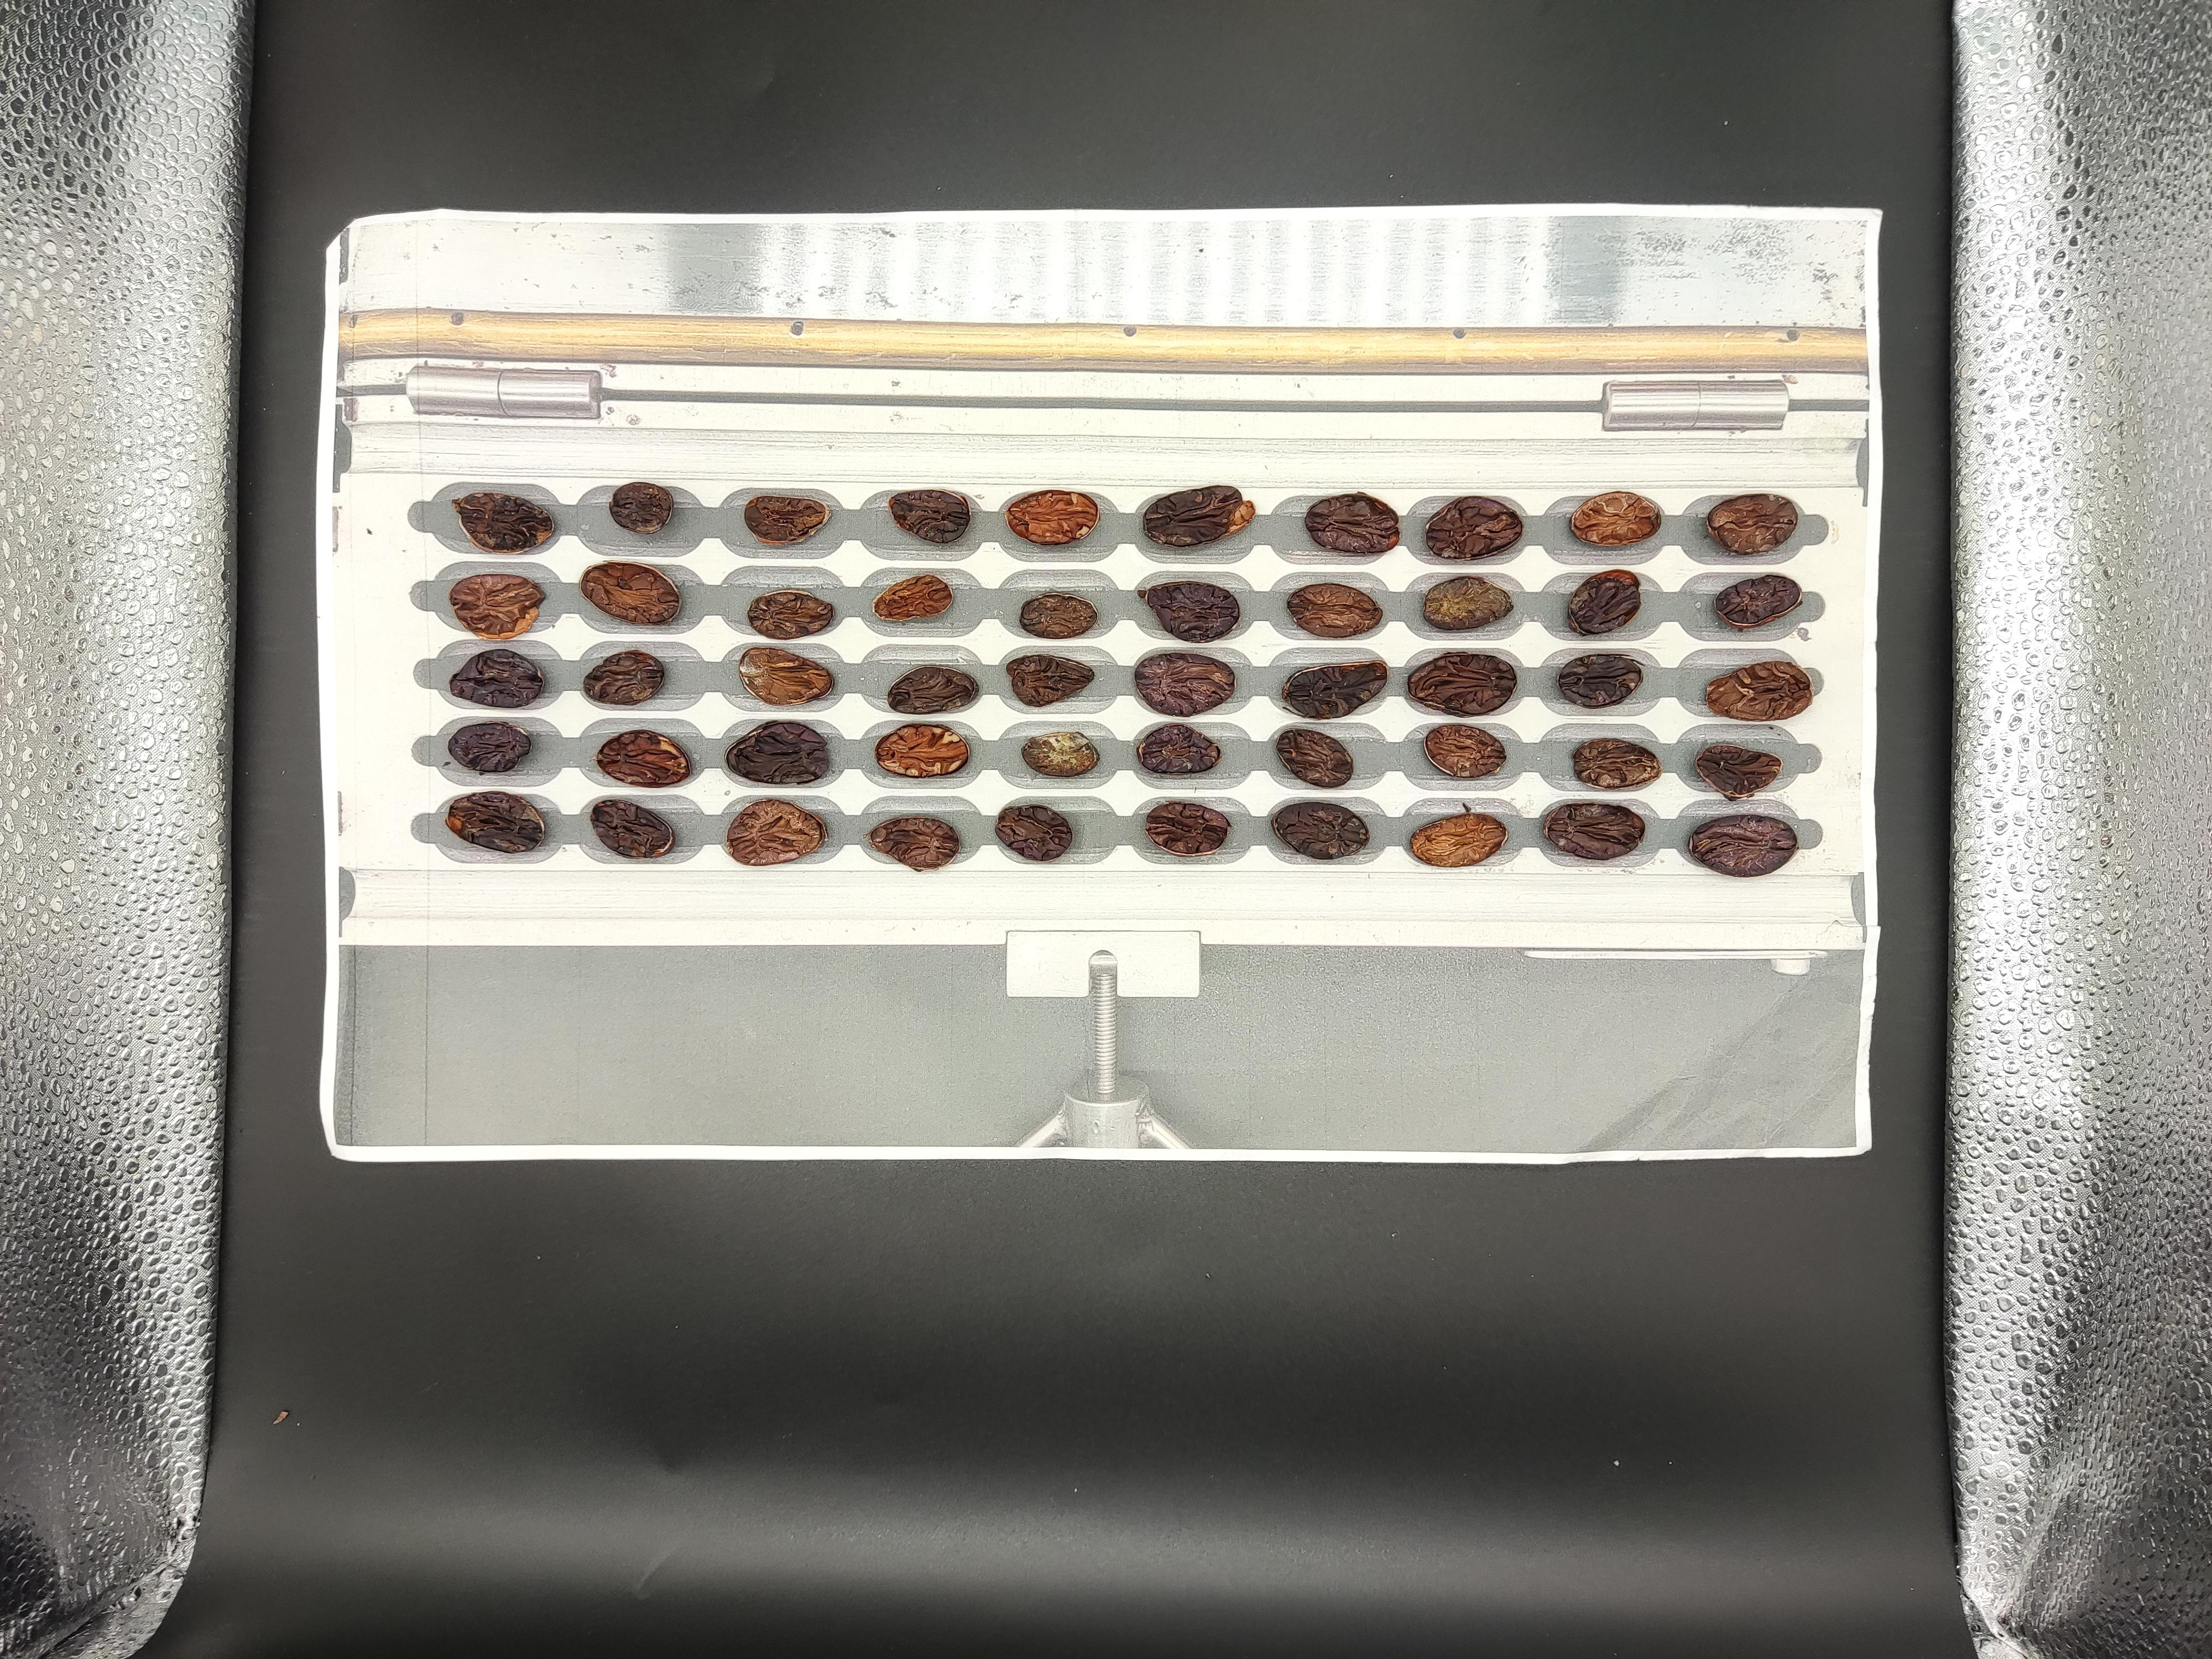Brown - G1: (1799, 1141, 1858, 1178), (1306, 1103, 1360, 1140), (1592, 1058, 1648, 1093), (1526, 1176, 1578, 1211), (1385, 1182, 1437, 1215), (1883, 1185, 1935, 1216), (1460, 1110, 1510, 1140), (1526, 1101, 1571, 1131)
Brown - G2: (1447, 1218, 1507, 1256), (1951, 1147, 2010, 1182), (1522, 1225, 1575, 1258), (1881, 1060, 1933, 1091), (1808, 1178, 1855, 1213), (1594, 1143, 1642, 1176)
Brown - G3: (1374, 1096, 1432, 1133), (1952, 1060, 2005, 1096), (1801, 1225, 1857, 1258), (1737, 1107, 1791, 1140), (1458, 1060, 1512, 1091)
Brown - G4: (1601, 1112, 1646, 1140)
Insect-damaged: (1804, 1103, 1858, 1134)
Mouldy: (1456, 1138, 1510, 1175), (1601, 1183, 1646, 1209)
Partly Purple - G1: (1449, 1178, 1508, 1215), (1663, 1218, 1714, 1251)
Partly Purple - G2: (1306, 1213, 1362, 1251), (1660, 1143, 1717, 1180), (1735, 1147, 1794, 1182), (1869, 1218, 1925, 1253), (1745, 1061, 1799, 1096), (1533, 1056, 1581, 1093), (1381, 1218, 1428, 1253), (1585, 1220, 1632, 1253)
Total Purple - G2: (1310, 1141, 1362, 1176), (1658, 1178, 1709, 1211)
Total Purple - G3: (1942, 1225, 2003, 1262), (1663, 1107, 1717, 1141), (1956, 1103, 2006, 1134), (1306, 1178, 1355, 1209)
Very Dark Brown - G1: (1662, 1056, 1726, 1093), (1310, 1060, 1367, 1098), (1881, 1098, 1925, 1138)
Very Dark Brown - G2: (1808, 1061, 1864, 1101), (1946, 1188, 1996, 1222), (1731, 1180, 1777, 1216), (1878, 1143, 1925, 1176), (1378, 1141, 1423, 1175)
Very Dark Brown - G3: (1730, 1218, 1784, 1253), (1531, 1148, 1583, 1180), (1390, 1054, 1428, 1087)
